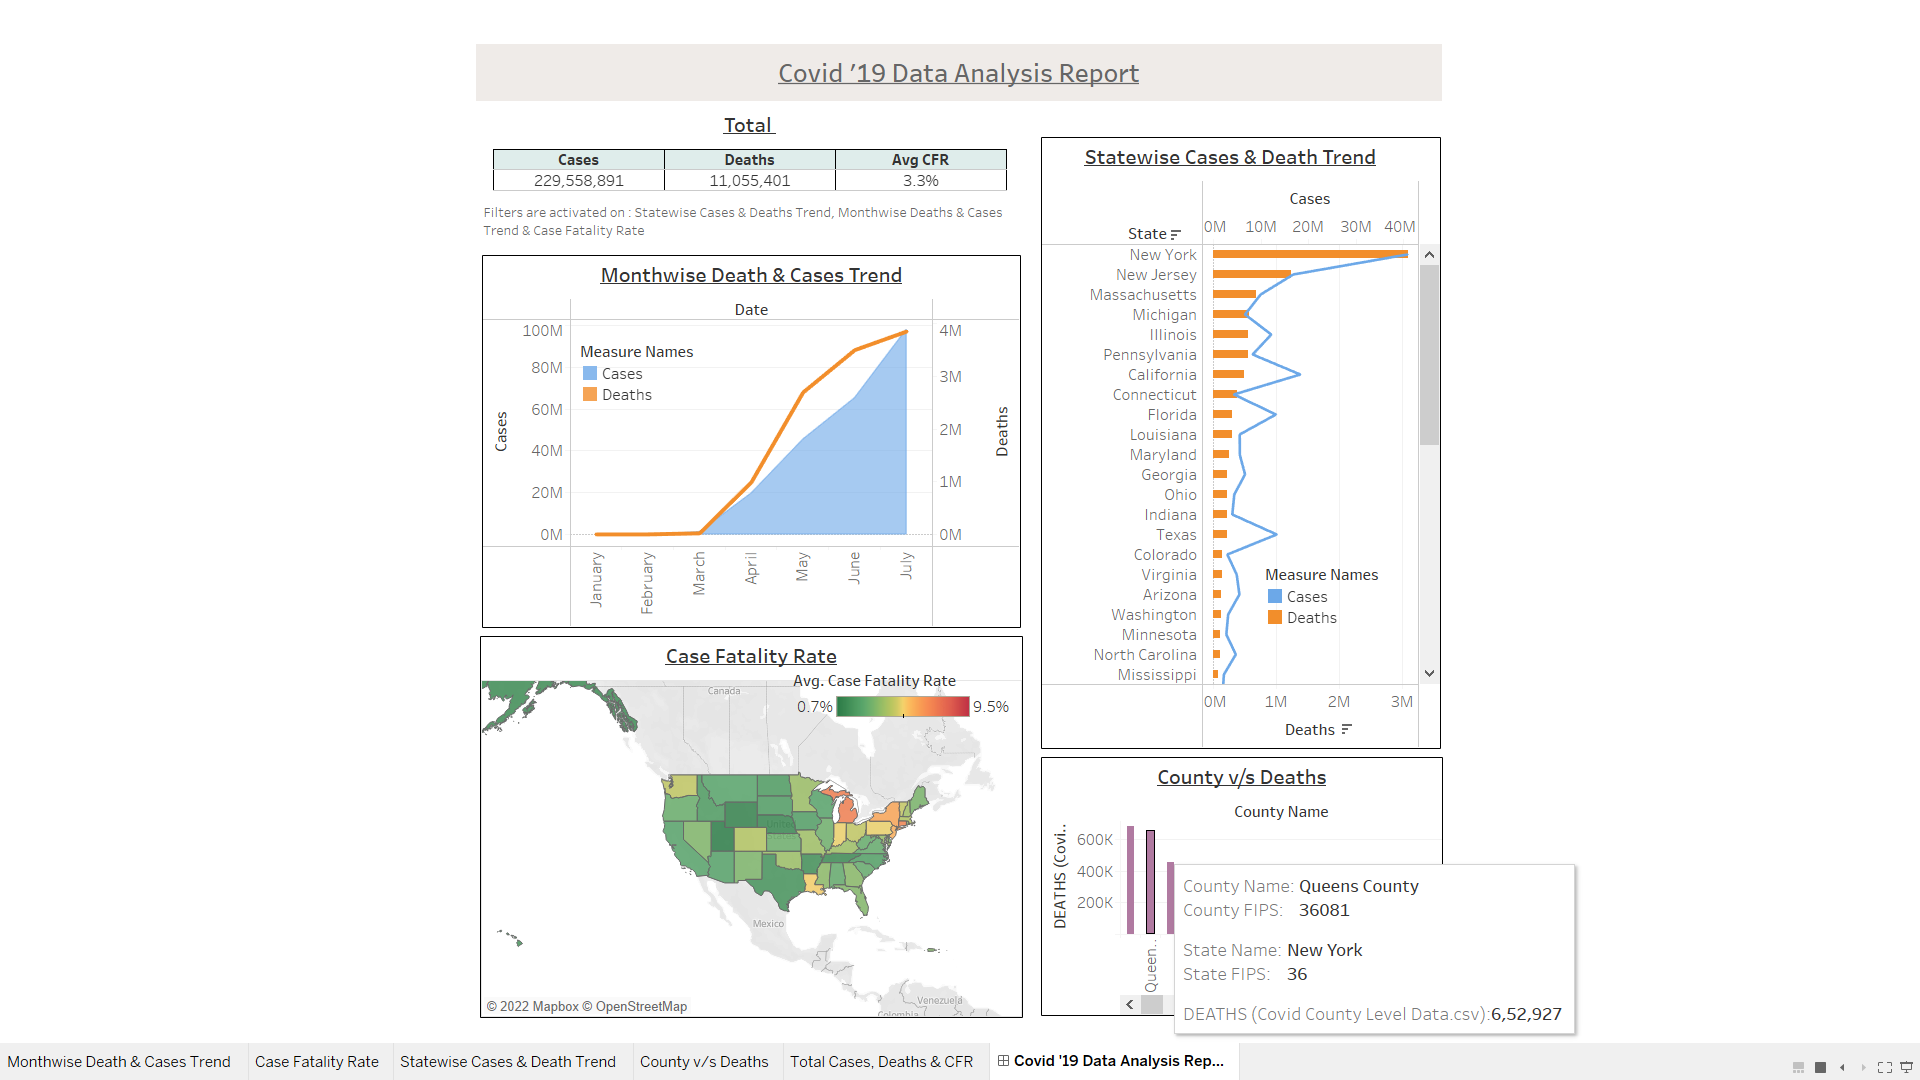

Layout of this report page (visuals, bound fields, positions):
{"tool":"tableau","page":{"name":"Covid '19 Data Analysis Report","canvas":[1000,1000],"ordinal":0},"visuals":[{"type":"text","box":[16,23,966,57]},{"type":"worksheet","title":"Total Cases, Deaths & CFR","mark":"Automatic","box":[33,85,558,86]},{"type":"worksheet","title":"Statewise Cases & Death Trend","mark":"Automatic","rows":["STATE"],"cols":["DEATHS","CASES"],"box":[581,116,400,612]},{"type":"text","box":[20,164,540,72]},{"type":"worksheet","title":"Monthwise Death & Cases Trend","mark":"Automatic","rows":["CASES","DEATHS"],"cols":["DATE"],"box":[22,234,539,373]},{"type":"legend","title":"Monthwise Death & Cases Trend","param":"[federated.0ui7ffg10hddcb1d2uvlm0c506nb].[:Measure Names]","box":[120,320,150,67]},{"type":"legend","title":"Statewise Cases & Death Trend","param":"[federated.0ui7ffg10hddcb1d2uvlm0c506nb].[:Measure Names]","box":[805,543,124,72]},{"type":"worksheet","title":"Case Fatality Rate","mark":"Automatic","box":[20,615,543,382]},{"type":"legend","title":"Case Fatality Rate","param":"[federated.0ui7ffg10hddcb1d2uvlm0c506nb].[avg:Calculation_444730521132519424:qk]","box":[333,649,221,58]},{"type":"worksheet","title":"County v/s Deaths","mark":"Automatic","rows":["DEATHS (Covid_County_Level_Data.csv)"],"cols":["COUNTY_NAME"],"box":[581,736,402,259]}]}

Visuals, with their boxes on the page's 1000x1000 design canvas (x1, y1, x2, y2). These are canvas units, not pixel positions in the 1920x1080 screenshot, which may show the page scaled, cropped or inside an application window:
text: x1=16, y1=23, x2=982, y2=80
"Total Cases, Deaths & CFR" worksheet: x1=33, y1=85, x2=591, y2=171
"Statewise Cases & Death Trend" worksheet: x1=581, y1=116, x2=981, y2=728
text: x1=20, y1=164, x2=560, y2=236
"Monthwise Death & Cases Trend" worksheet: x1=22, y1=234, x2=561, y2=607
"Monthwise Death & Cases Trend" legend: x1=120, y1=320, x2=270, y2=387
"Statewise Cases & Death Trend" legend: x1=805, y1=543, x2=929, y2=615
"Case Fatality Rate" worksheet: x1=20, y1=615, x2=563, y2=997
"Case Fatality Rate" legend: x1=333, y1=649, x2=554, y2=707
"County v/s Deaths" worksheet: x1=581, y1=736, x2=983, y2=995
